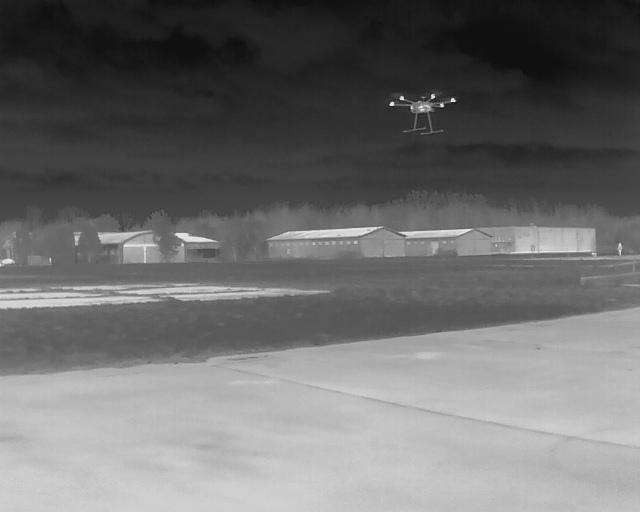drone: (378, 83, 465, 141)
